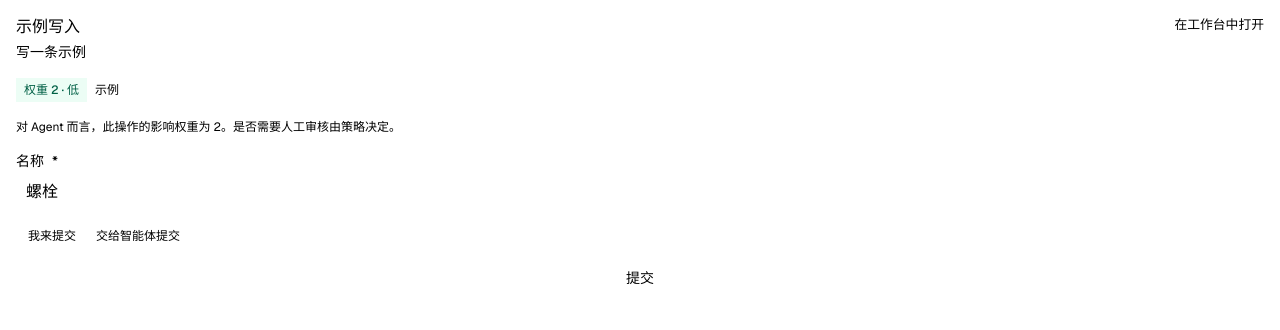
Scenario: ChatPartRenderer › renders an MCP show_form result and sends a follow-up after submit
The width and height of the screenshot is (1280, 330).
Expected: the text "示例写入" is shown, [16,16,80,38]
Expected: the field labelled "名称 *" holds "螺栓", [16,174,1264,206]
Step 1. Click the radio button labelled "交给智能体提交" → (138,236), box [86,224,190,248]
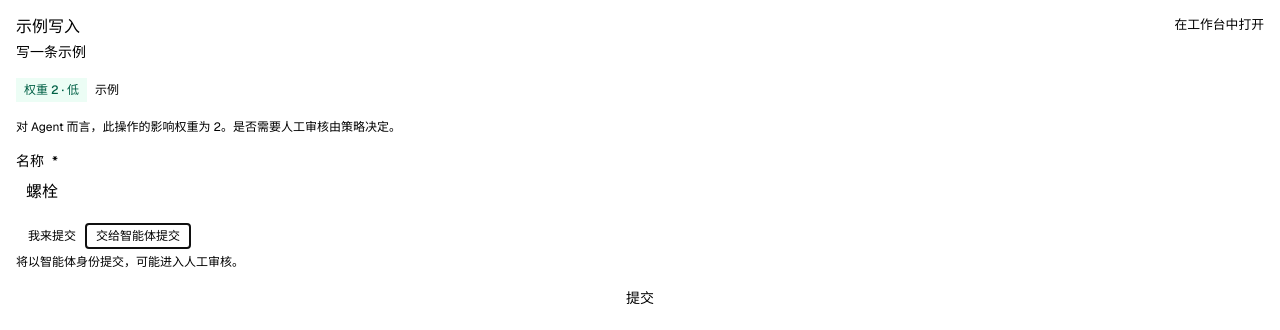
Step 2. Click the button "提交" → (640,298), box [16,282,1264,314]
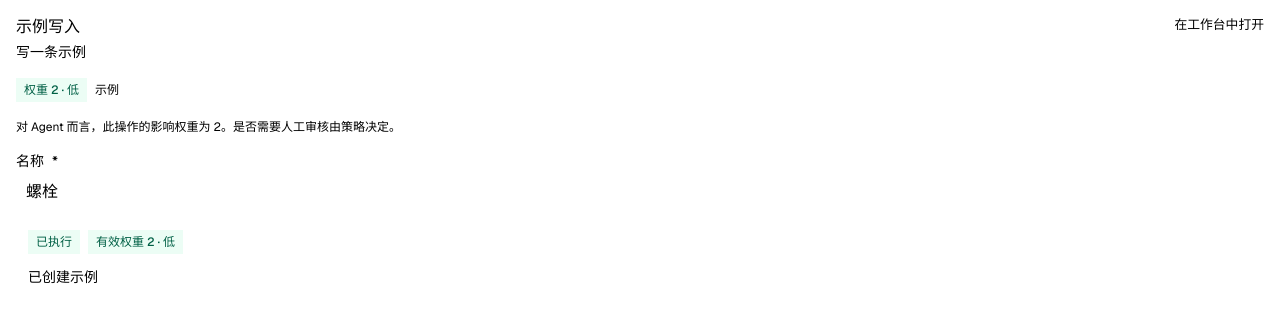
Expected: the radio button labelled "提交" is gone
